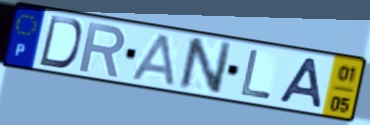A: (129, 31, 177, 88), (276, 56, 324, 111)
D: (36, 14, 84, 71)
L: (238, 48, 274, 102)
N: (176, 35, 235, 96)
R: (77, 20, 128, 79)
